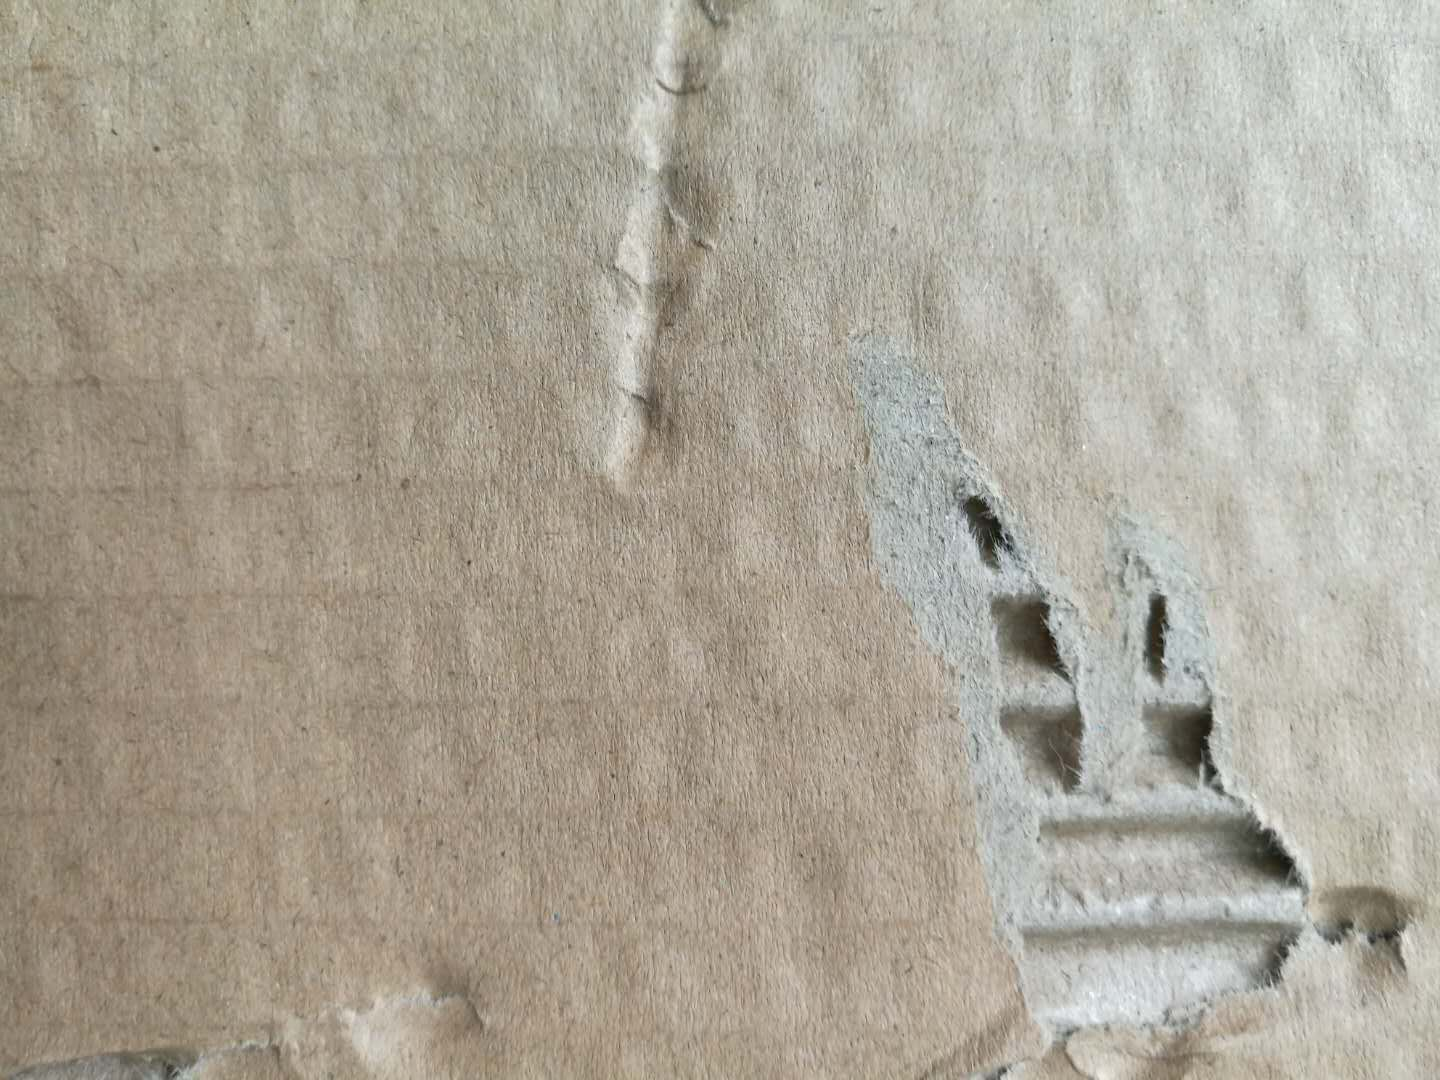defect: (818, 305, 1435, 1080), (558, 1, 801, 518), (5, 950, 522, 1080)
